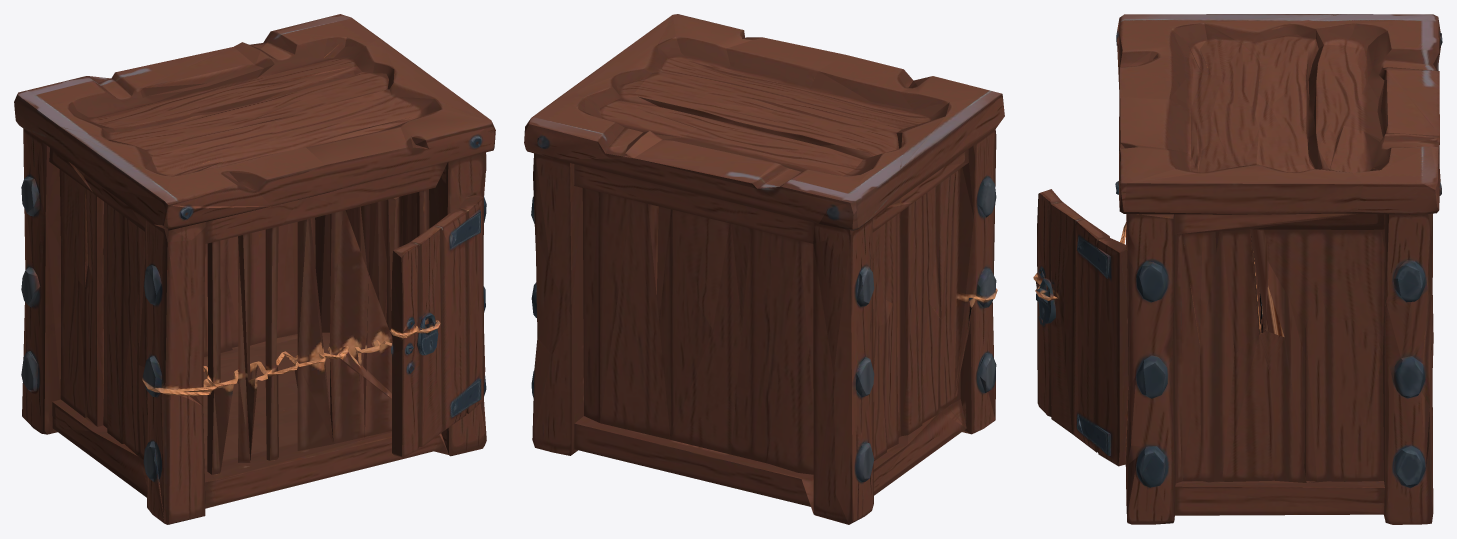
File: prisoner-cage.hq.glb
The picture shows the model from 3 angles, left to right: view 1: azimuth 30°, elevation 25°; view 2: azimuth 150°, elevation 25°; view 3: azimuth 270°, elevation 25°; orthographic projection. The views are drawn at different scales.
Visible parts, largest first — view 1: output_unwrapped; view 2: output_unwrapped; view 3: output_unwrapped.
Boxes of the visible parts, left/top/right/bottom form: output_unwrapped: left=14, top=14, right=495, bottom=524; output_unwrapped: left=524, top=14, right=1004, bottom=524; output_unwrapped: left=1033, top=14, right=1442, bottom=524.
Size of the model in its own units: 1.89 by 1.77 by 1.9.
1 material, 1 textured.
